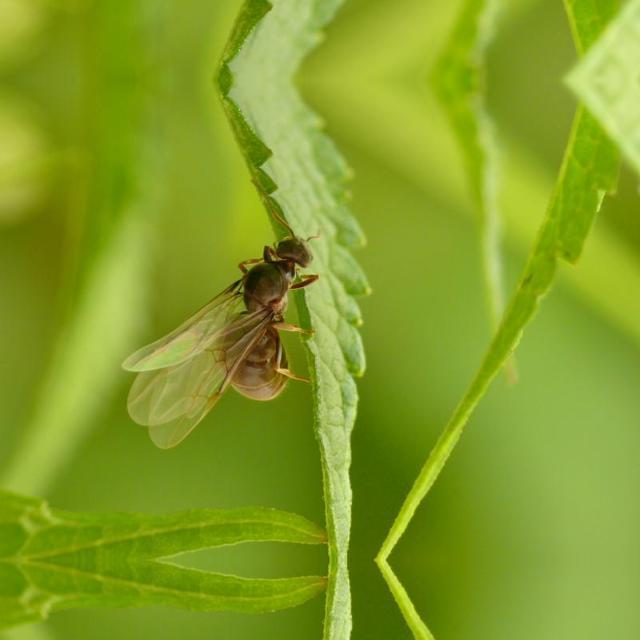Lasius: (148, 202, 318, 440)
